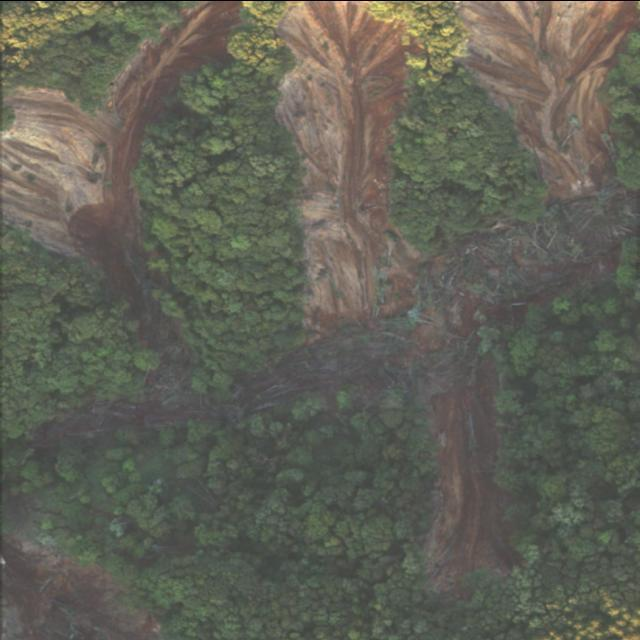landslide: (248, 0, 639, 595), (1, 0, 241, 344), (2, 532, 160, 640)
